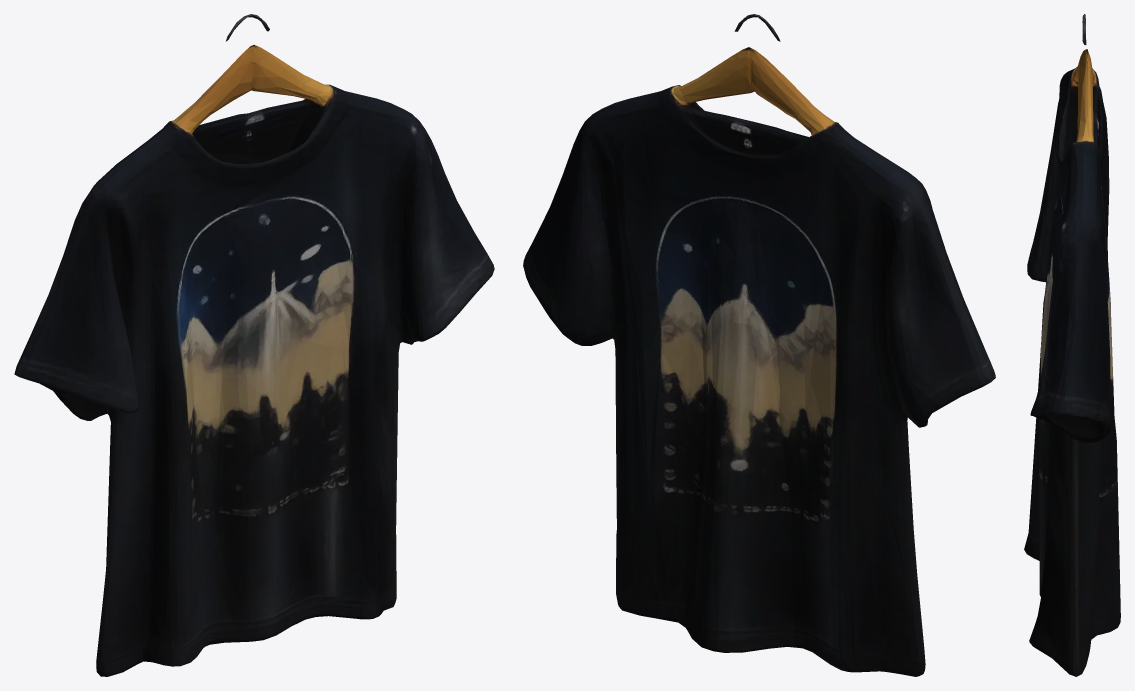
The picture shows the model from 3 angles, left to right: view 1: azimuth 30°, elevation 25°; view 2: azimuth 150°, elevation 25°; view 3: azimuth 270°, elevation 25°; orthographic projection. The views are drawn at different scales.
Parts seen in each view (by area): view 1: geometry_0; view 2: geometry_0; view 3: geometry_0.
Boxes of the visible parts, x1,y1,x2,y2 form: geometry_0: (14, 14, 494, 676); geometry_0: (523, 14, 995, 676); geometry_0: (1024, 14, 1120, 676).
Bounding box in the file's own units: 0.7877 × 0.998 × 0.1471.
Materials: 1 (1 with a texture image).
